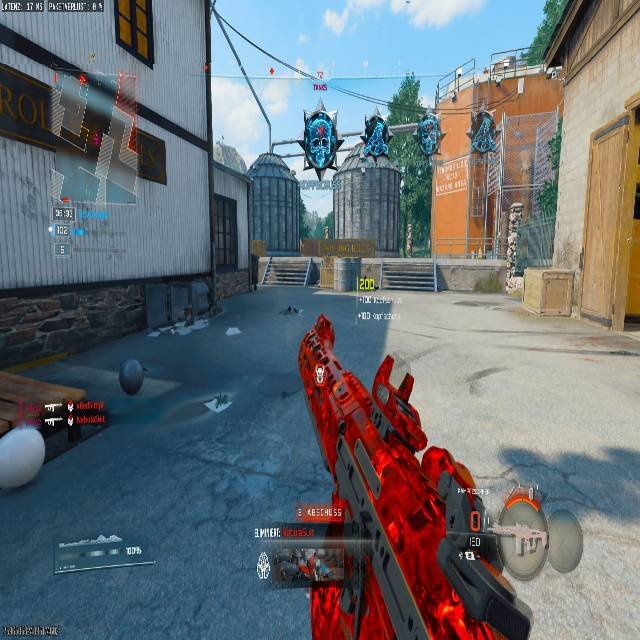player: (304, 107, 338, 173), (359, 114, 391, 164)
